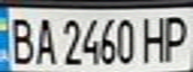0: (115, 15, 142, 65)
2: (57, 14, 81, 66)
4: (78, 15, 103, 66)
6: (100, 15, 121, 65)
A: (30, 12, 57, 66)
B: (3, 12, 36, 66)
H: (139, 12, 172, 63)
P: (160, 11, 193, 63)
